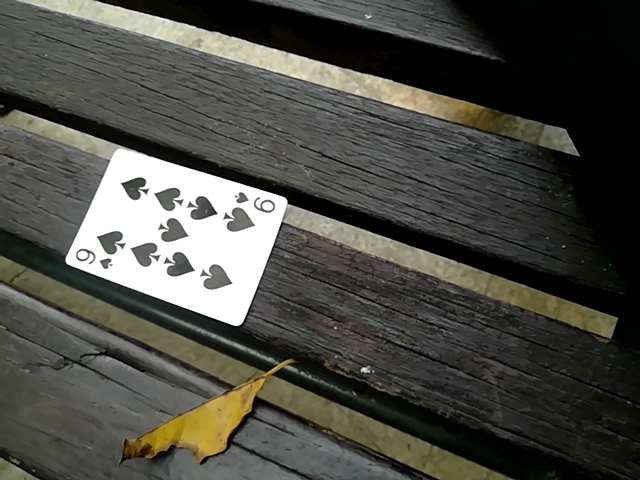ht 9: (65, 150, 283, 325)
